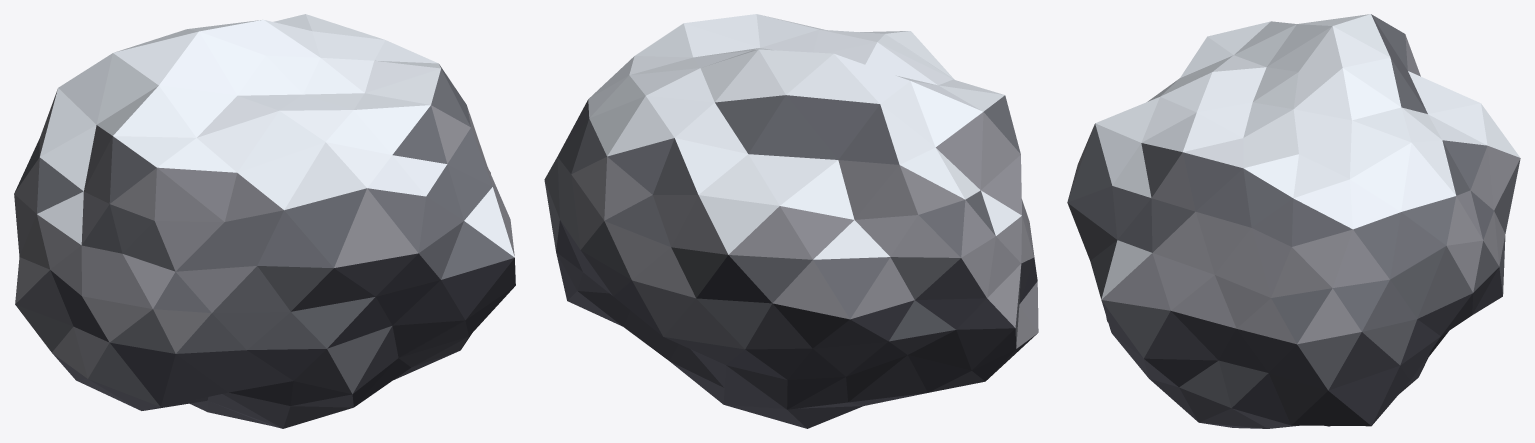
The model's file is rock_boulder.glb.
The picture shows the model from 3 angles, left to right: view 1: azimuth 30°, elevation 25°; view 2: azimuth 150°, elevation 25°; view 3: azimuth 270°, elevation 25°; orthographic projection. The views are drawn at different scales.
Visible parts, largest first — view 1: rock_boulder; view 2: rock_boulder; view 3: rock_boulder.
Part boxes in pixels (<box>): rock_boulder: <box>14,14,515,428</box>; rock_boulder: <box>544,14,1038,428</box>; rock_boulder: <box>1067,14,1520,428</box>.
Bounding box in the file's own units: 9.96 × 7.86 × 8.81.
Materials: 1 (1 with a texture image).
